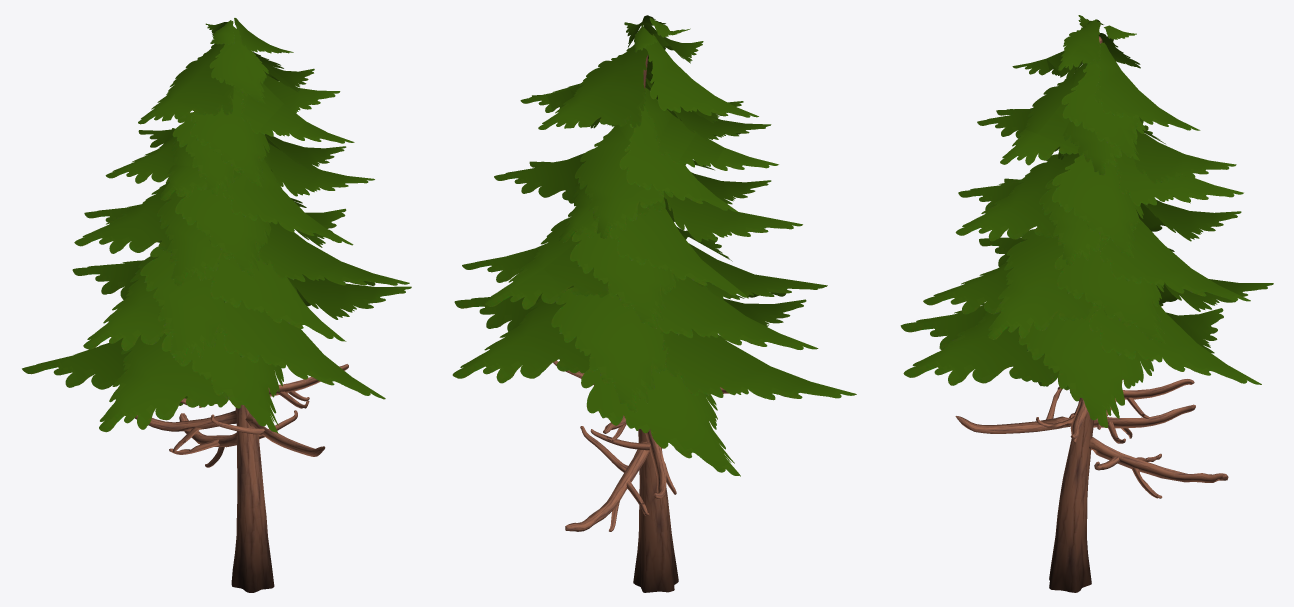
File: Pine_1.glb
3 views of the same model, side by side, from view 1: azimuth 30°, elevation 25°; view 2: azimuth 150°, elevation 25°; view 3: azimuth 270°, elevation 25° (orthographic). The views are drawn at different scales.
Parts seen in each view (by area): view 1: Pine_1; view 2: Pine_1; view 3: Pine_1.
Boxes of the visible parts, left/top/right/bottom form: Pine_1: left=22, top=18, right=411, bottom=592; Pine_1: left=452, top=15, right=856, bottom=592; Pine_1: left=900, top=15, right=1273, bottom=592.
Size of the model in its own units: 4.94 by 7.32 by 4.54.
Materials: 2 (2 with a texture image).
